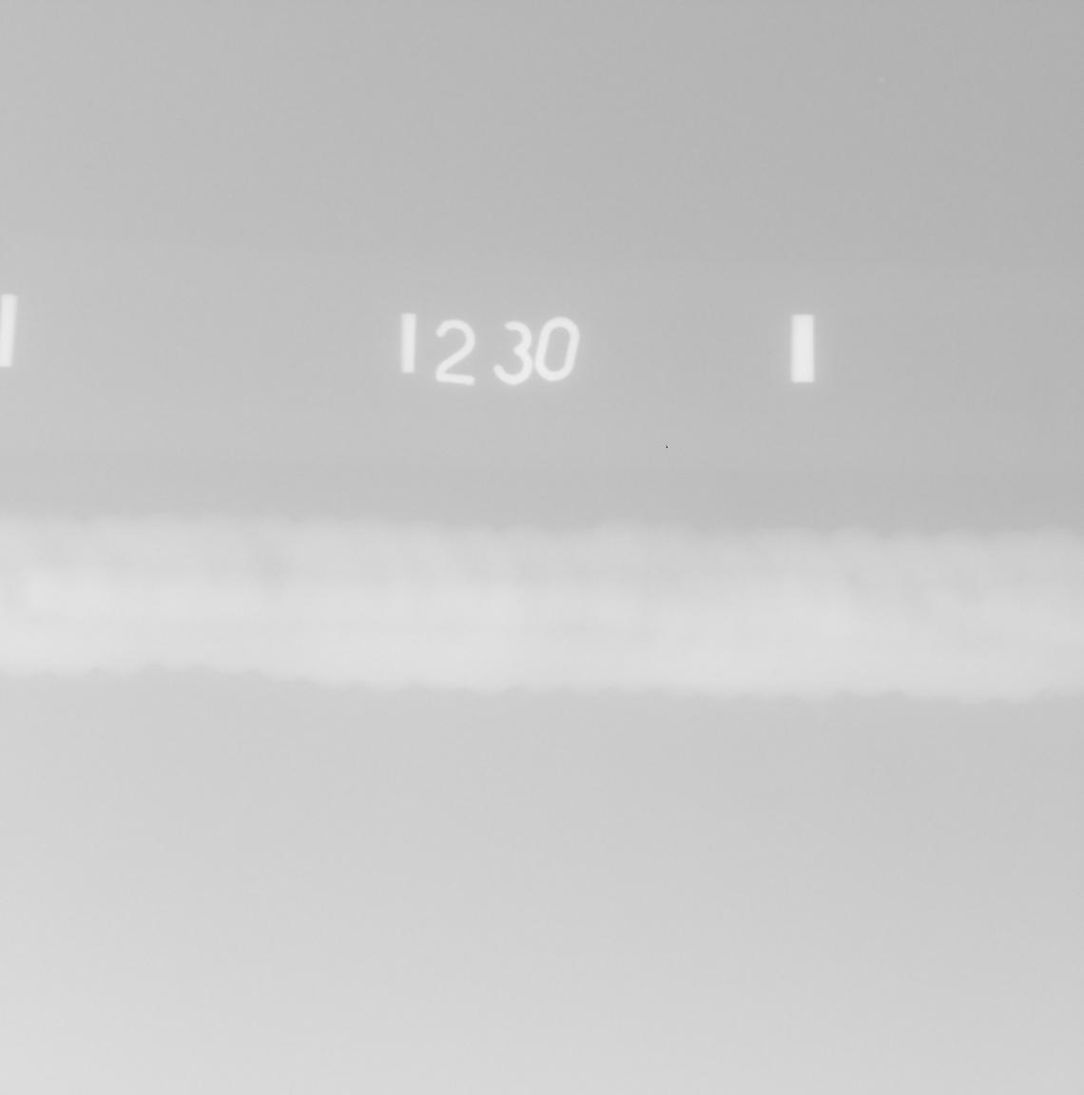Inclusion: (570, 623, 588, 633)
